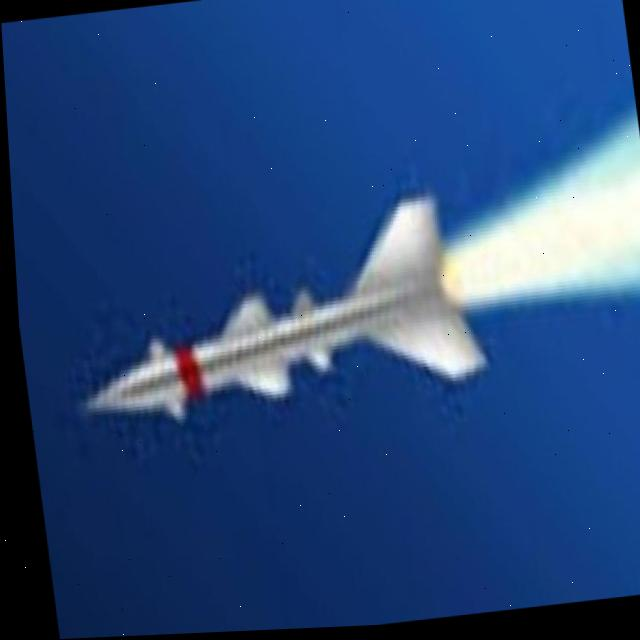missile: (55, 221, 487, 424)
